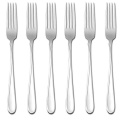fork: (102, 2, 123, 117)
